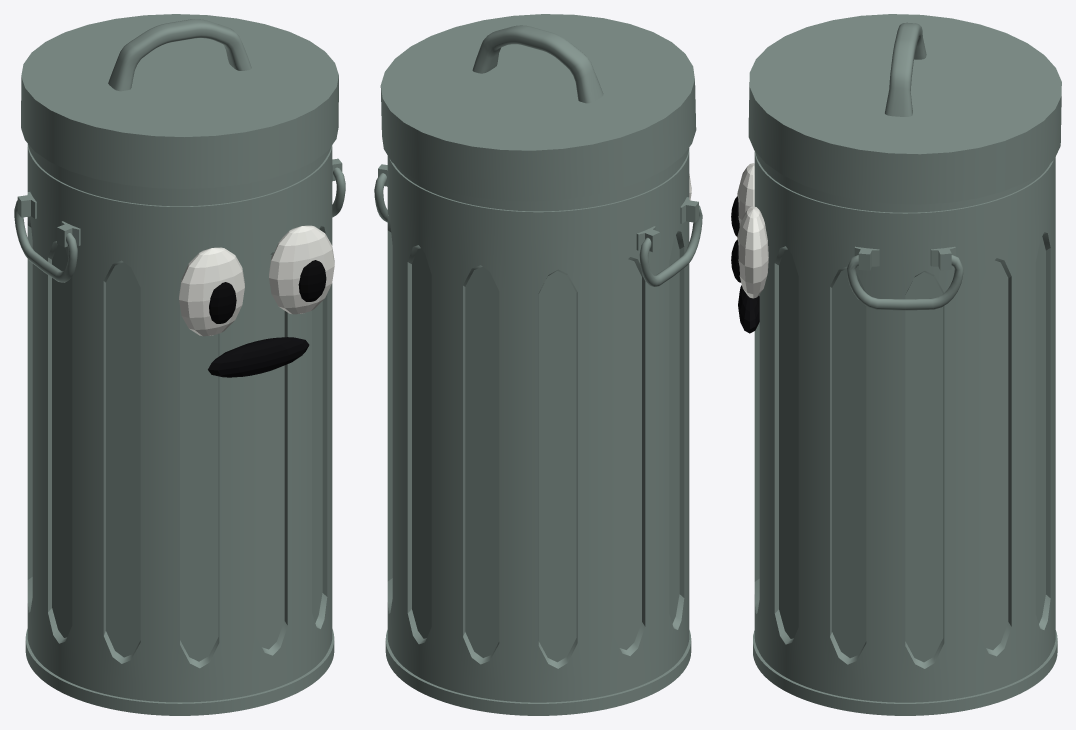
Rendered from bin_block.glb.
3 views of the same model, side by side, from view 1: azimuth 30°, elevation 25°; view 2: azimuth 150°, elevation 25°; view 3: azimuth 270°, elevation 25° (orthographic).
Visible parts, largest first — view 1: KOva; view 2: KOva; view 3: KOva.
Part boxes in pixels (box(x1,y1,x2,y2)): KOva: box(14, 14, 345, 715); KOva: box(374, 14, 702, 715); KOva: box(731, 14, 1061, 715).
Bounding box in the file's own units: 0.94 × 2 × 0.9689.
Materials: 7 (7 with a texture image).
